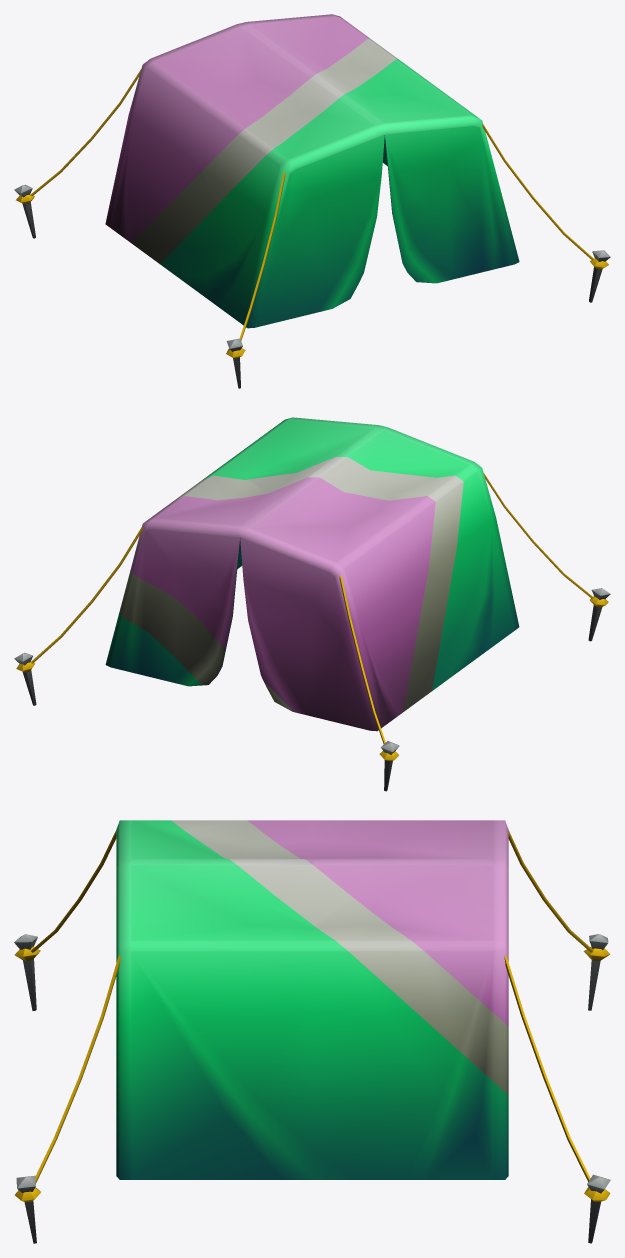
The model's file is Tent_1C.fbx.
3 views of the same model, one above another, from view 1: azimuth 30°, elevation 25°; view 2: azimuth 150°, elevation 25°; view 3: azimuth 270°, elevation 25° (orthographic). The views are drawn at different scales.
Parts seen in each view (by area): view 1: Tent_1C; view 2: Tent_1C; view 3: Tent_1C.
Part boxes in pixels (box(x1,y1,x2,y2)): Tent_1C: box(14, 14, 610, 388); Tent_1C: box(14, 417, 610, 791); Tent_1C: box(14, 820, 610, 1243).
Bounding box in the file's own units: 421 × 206 × 421.
